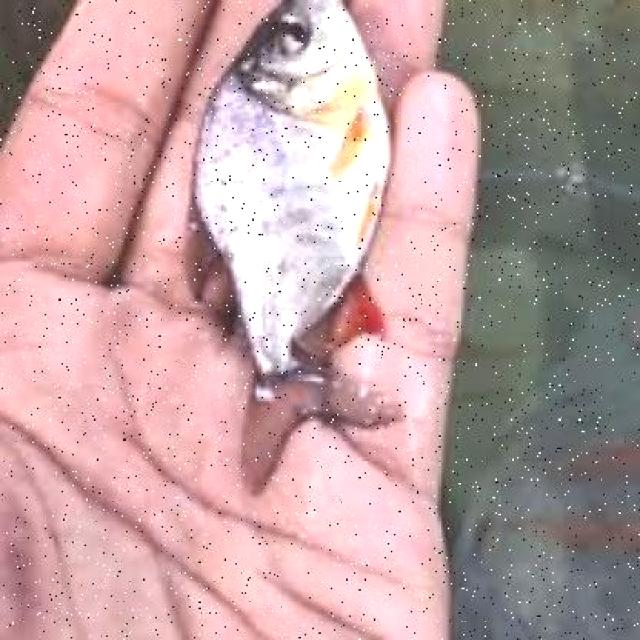ikan-pacu: (195, 0, 396, 428)
